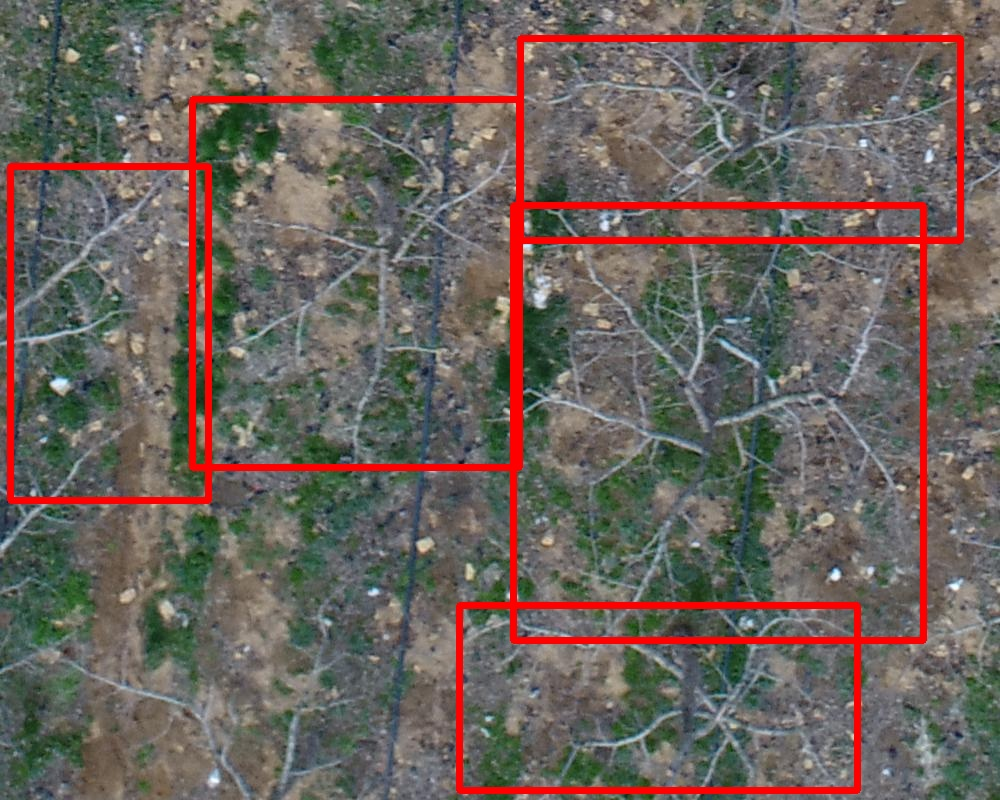apple: (513, 205, 923, 640), (192, 99, 519, 467), (520, 38, 960, 240), (459, 605, 857, 790), (10, 166, 208, 500)
